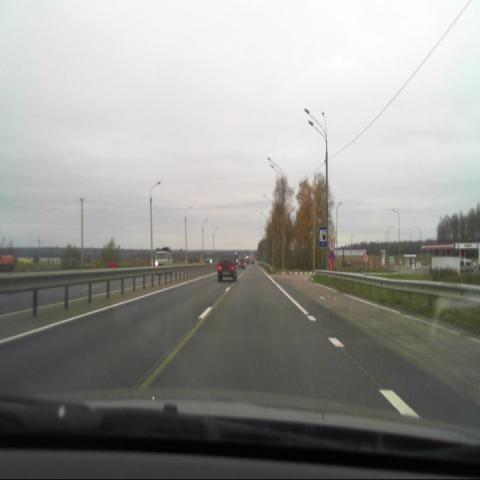3_27: (329, 250, 335, 261)
7_3: (318, 227, 326, 247)
